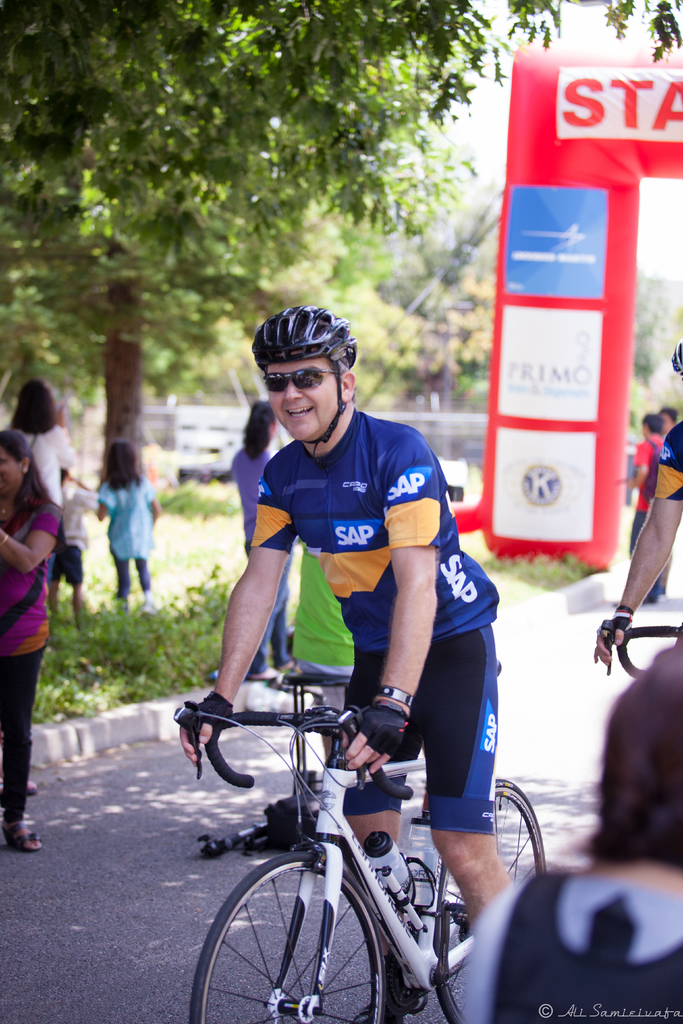Bike_toward: (175, 703, 559, 1015)
